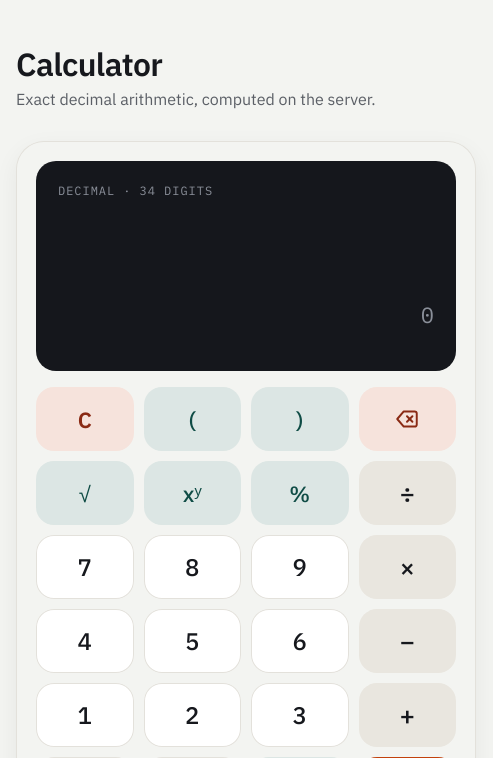
Test: App › clicking 2 + 3 = shows 5
The image size is (493, 758).
Click the button "2": (192, 715) [144,683,241,747]
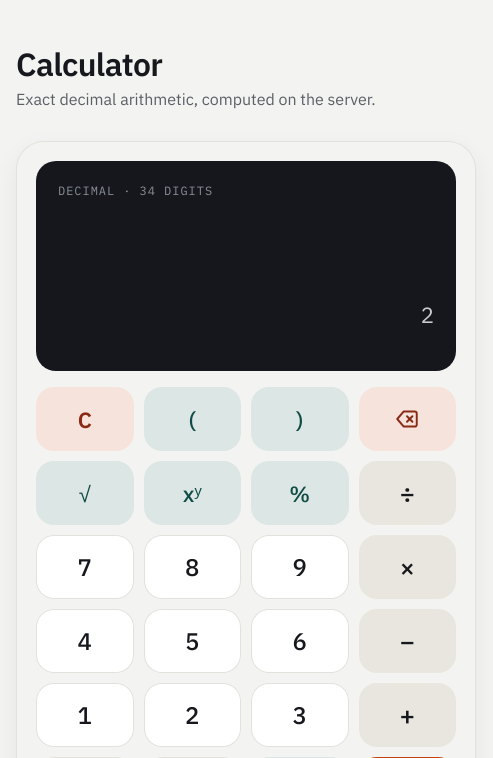
Click the button named "Plus": (407, 715) [358,683,456,747]
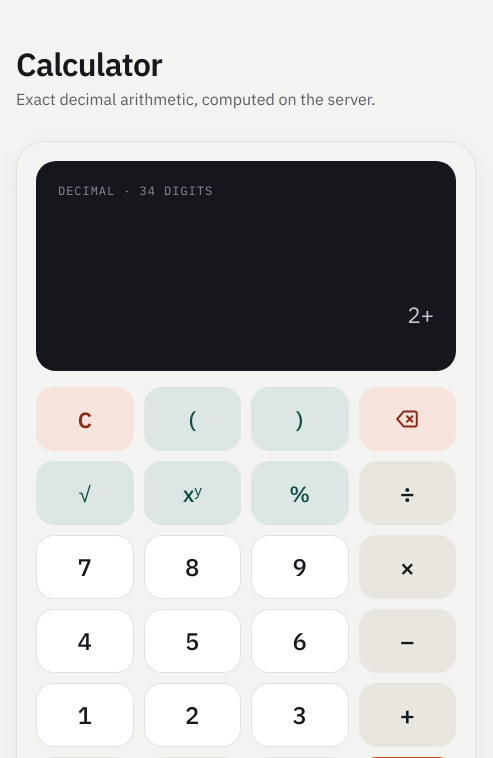
Click the button "3": (300, 715) [251,683,348,747]
(page scrolled)
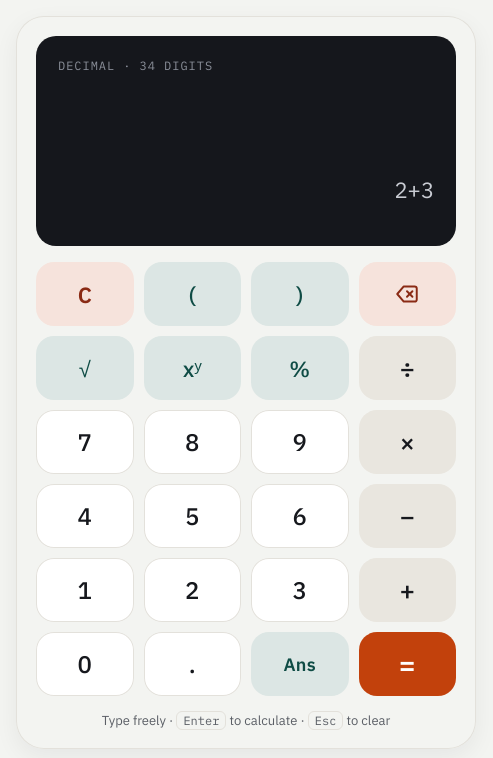
Click the button named "Calculate": (407, 664) [358,632,456,696]
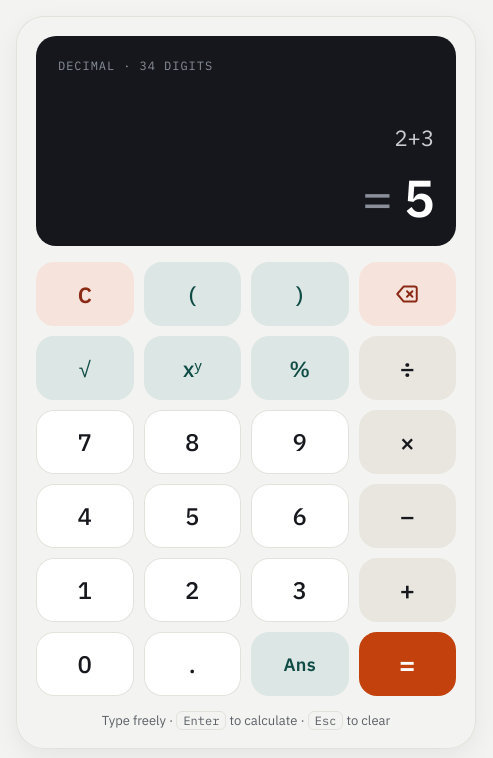
Expected: the text "Exact" is not shown
Expected: the text with class "marker" reads "=", [362,164,392,231]
